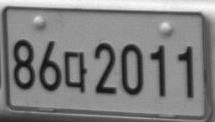0: (120, 42, 144, 96)
1: (147, 44, 173, 97), (175, 45, 201, 98)
2: (93, 41, 117, 95)
6: (38, 40, 62, 92)
8: (12, 38, 36, 90)
다: (63, 50, 88, 93)
